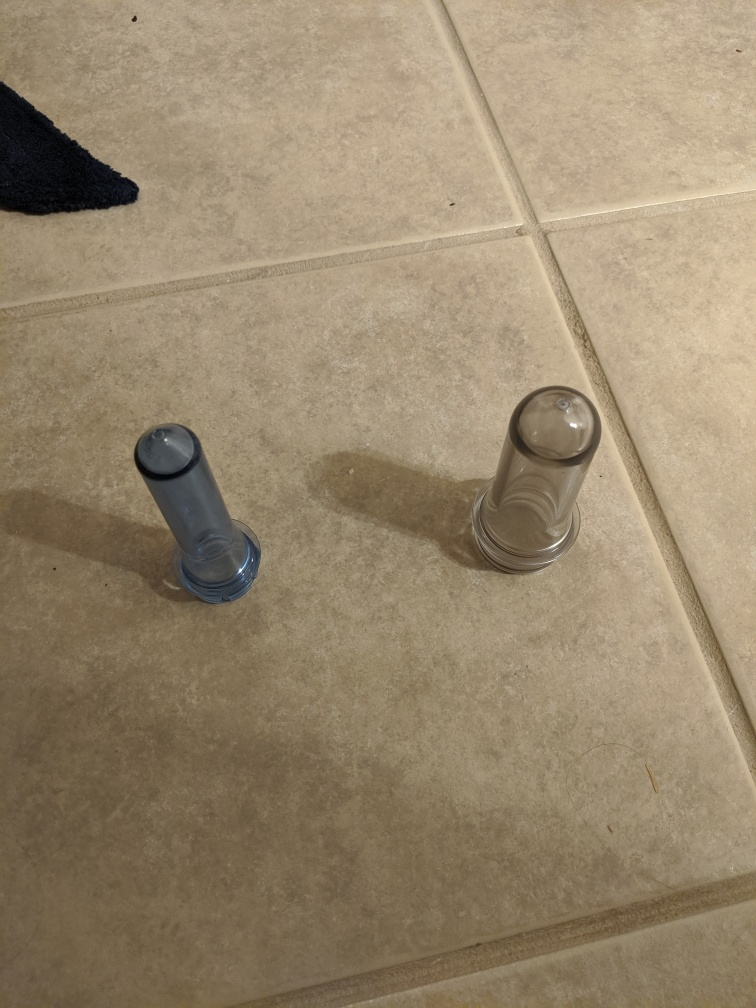preform: (461, 378, 606, 578), (123, 416, 268, 608)
